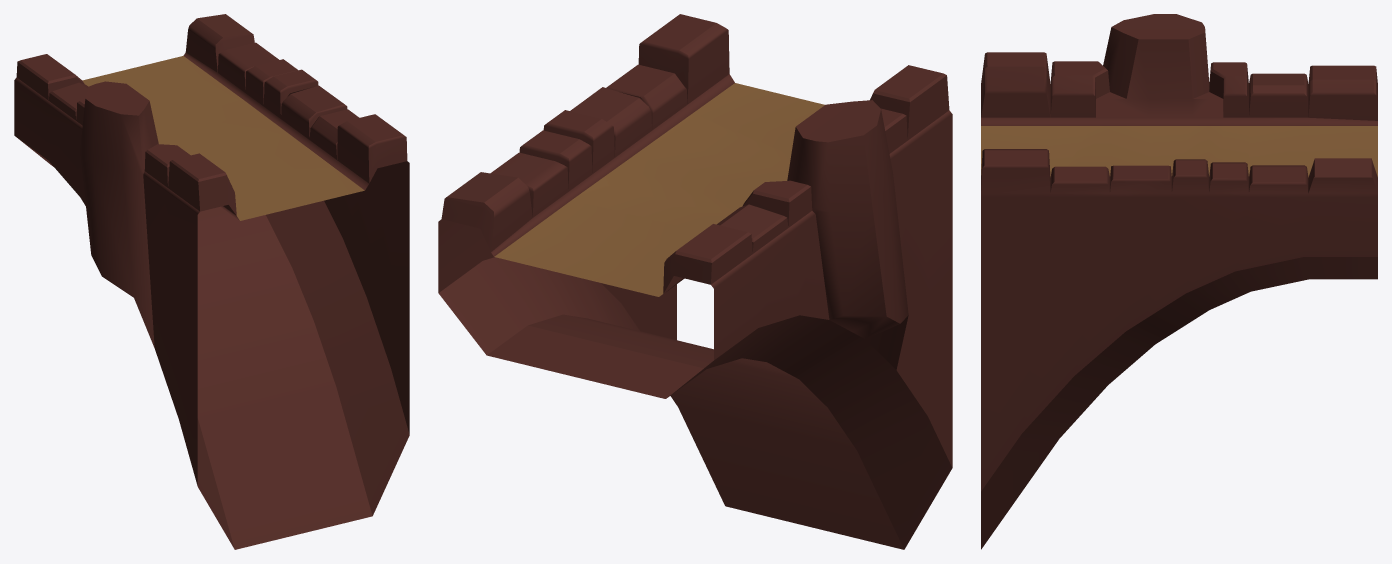
Rendered from SM_bridge_head.fbx.
3 views of the same model, side by side, from view 1: azimuth 30°, elevation 25°; view 2: azimuth 150°, elevation 25°; view 3: azimuth 270°, elevation 25° (orthographic). The views are drawn at different scales.
Parts seen in each view (by area): view 1: pCube40; view 2: pCube40; view 3: pCube40.
Part boxes in pixels (<box>): pCube40: <box>14,14,409,549</box>; pCube40: <box>438,14,952,549</box>; pCube40: <box>981,14,1377,549</box>.
Size of the model in its own units: 453 by 721 by 600.
